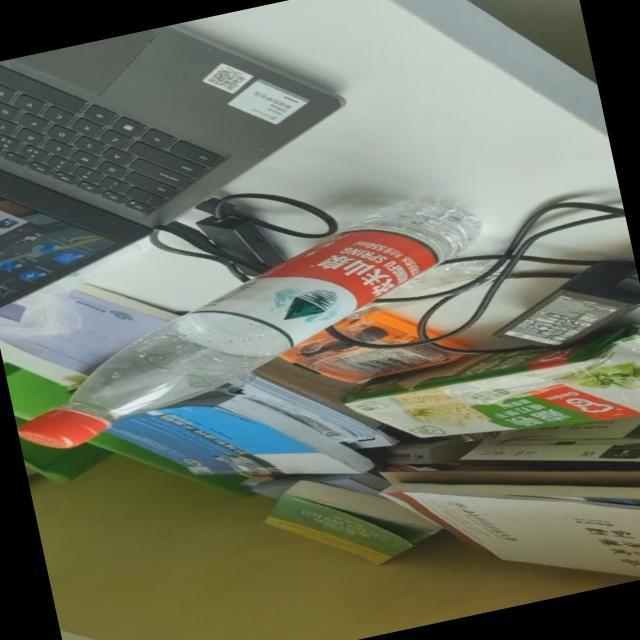good: (0, 192, 502, 459)
